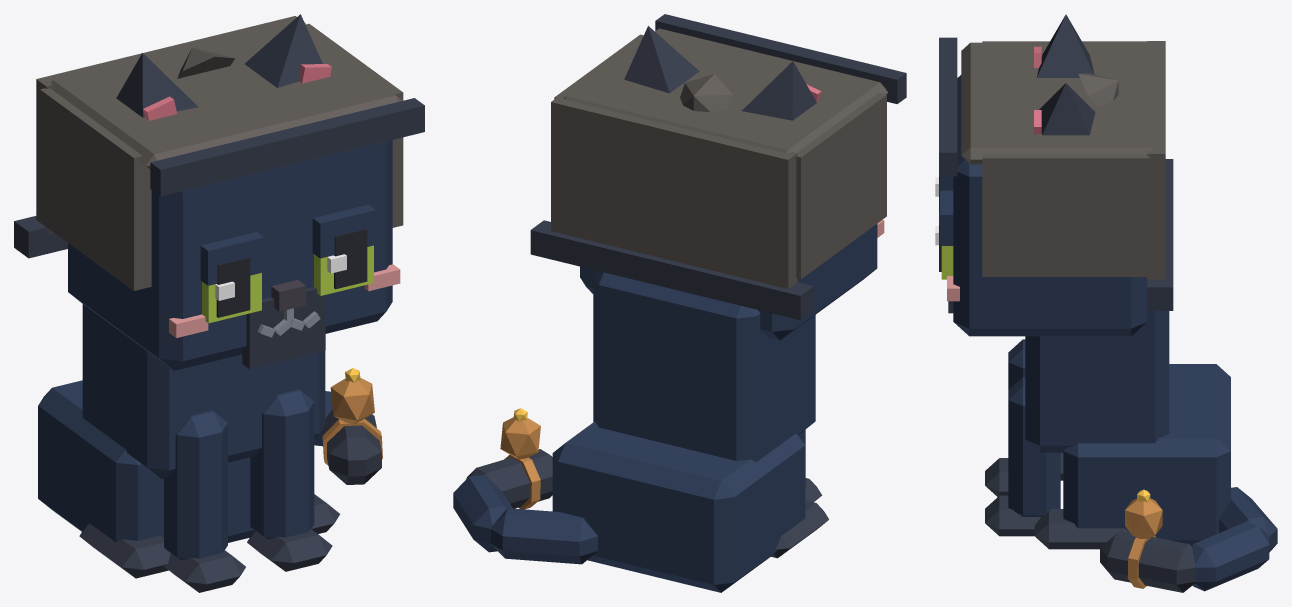
Rendered from CatCafe_Cat_Rogue_Sit.glb.
3 renders of one model, left to right at view 1: azimuth 30°, elevation 25°; view 2: azimuth 150°, elevation 25°; view 3: azimuth 270°, elevation 25°, orthographic. The views are drawn at different scales.
Visible parts, largest first — view 1: CatCafe_Cat_Rogue_Sit_Prop, CatCafe_Cat_Rogue_Sit_Head, CatCafe_Cat_Rogue_Sit_Body, CatCafe_Cat_Rogue_Sit_LegF1, CatCafe_Cat_Rogue_Sit_LegF2, CatCafe_Cat_Rogue_Sit_Eye1, CatCafe_Cat_Rogue_Sit_Eye2, CatCafe_Cat_Rogue_Sit_EarL, CatCafe_Cat_Rogue_Sit_Tail, CatCafe_Cat_Rogue_Sit_EarR, CatCafe_Cat_Rogue_Sit_Tail_Pouch; view 2: CatCafe_Cat_Rogue_Sit_Prop, CatCafe_Cat_Rogue_Sit_Body, CatCafe_Cat_Rogue_Sit_Tail, CatCafe_Cat_Rogue_Sit_Head, CatCafe_Cat_Rogue_Sit_EarL, CatCafe_Cat_Rogue_Sit_EarR, CatCafe_Cat_Rogue_Sit_Tail_Pouch; view 3: CatCafe_Cat_Rogue_Sit_Prop, CatCafe_Cat_Rogue_Sit_Body, CatCafe_Cat_Rogue_Sit_Head, CatCafe_Cat_Rogue_Sit_Tail, CatCafe_Cat_Rogue_Sit_LegF1, CatCafe_Cat_Rogue_Sit_EarR, CatCafe_Cat_Rogue_Sit_EarL, CatCafe_Cat_Rogue_Sit_Tail_Pouch, CatCafe_Cat_Rogue_Sit_LegF2, CatCafe_Cat_Rogue_Sit_Eye1.
Boxes of the visible parts, x1,y1,x2,y2 form: CatCafe_Cat_Rogue_Sit_Prop: [14, 16, 424, 290]; CatCafe_Cat_Rogue_Sit_Head: [68, 140, 400, 370]; CatCafe_Cat_Rogue_Sit_Body: [38, 304, 339, 578]; CatCafe_Cat_Rogue_Sit_LegF1: [247, 389, 332, 571]; CatCafe_Cat_Rogue_Sit_LegF2: [164, 410, 245, 592]; CatCafe_Cat_Rogue_Sit_Eye1: [312, 204, 376, 295]; CatCafe_Cat_Rogue_Sit_Eye2: [200, 232, 264, 323]; CatCafe_Cat_Rogue_Sit_EarL: [244, 14, 331, 87]; CatCafe_Cat_Rogue_Sit_Tail: [314, 391, 381, 484]; CatCafe_Cat_Rogue_Sit_EarR: [116, 53, 198, 120]; CatCafe_Cat_Rogue_Sit_Tail_Pouch: [322, 368, 382, 465]; CatCafe_Cat_Rogue_Sit_Prop: [530, 14, 906, 320]; CatCafe_Cat_Rogue_Sit_Body: [552, 271, 828, 592]; CatCafe_Cat_Rogue_Sit_Tail: [453, 449, 597, 564]; CatCafe_Cat_Rogue_Sit_Head: [580, 220, 884, 340]; CatCafe_Cat_Rogue_Sit_EarL: [624, 26, 699, 93]; CatCafe_Cat_Rogue_Sit_EarR: [742, 61, 821, 120]; CatCafe_Cat_Rogue_Sit_Tail_Pouch: [500, 408, 540, 509]; CatCafe_Cat_Rogue_Sit_Prop: [939, 37, 1173, 310]; CatCafe_Cat_Rogue_Sit_Body: [1025, 311, 1230, 549]; CatCafe_Cat_Rogue_Sit_Head: [947, 75, 1147, 336]; CatCafe_Cat_Rogue_Sit_Tail: [1100, 487, 1277, 592]; CatCafe_Cat_Rogue_Sit_LegF1: [985, 377, 1060, 536]; CatCafe_Cat_Rogue_Sit_EarR: [1034, 14, 1094, 77]; CatCafe_Cat_Rogue_Sit_EarL: [1034, 83, 1095, 135]; CatCafe_Cat_Rogue_Sit_Tail_Pouch: [1125, 489, 1162, 588]; CatCafe_Cat_Rogue_Sit_LegF2: [985, 339, 1025, 496]; CatCafe_Cat_Rogue_Sit_Eye1: [935, 190, 953, 279].
Bounding box in the file's own units: 1.35 × 1.85 × 1.24.
1 material, 1 textured.
